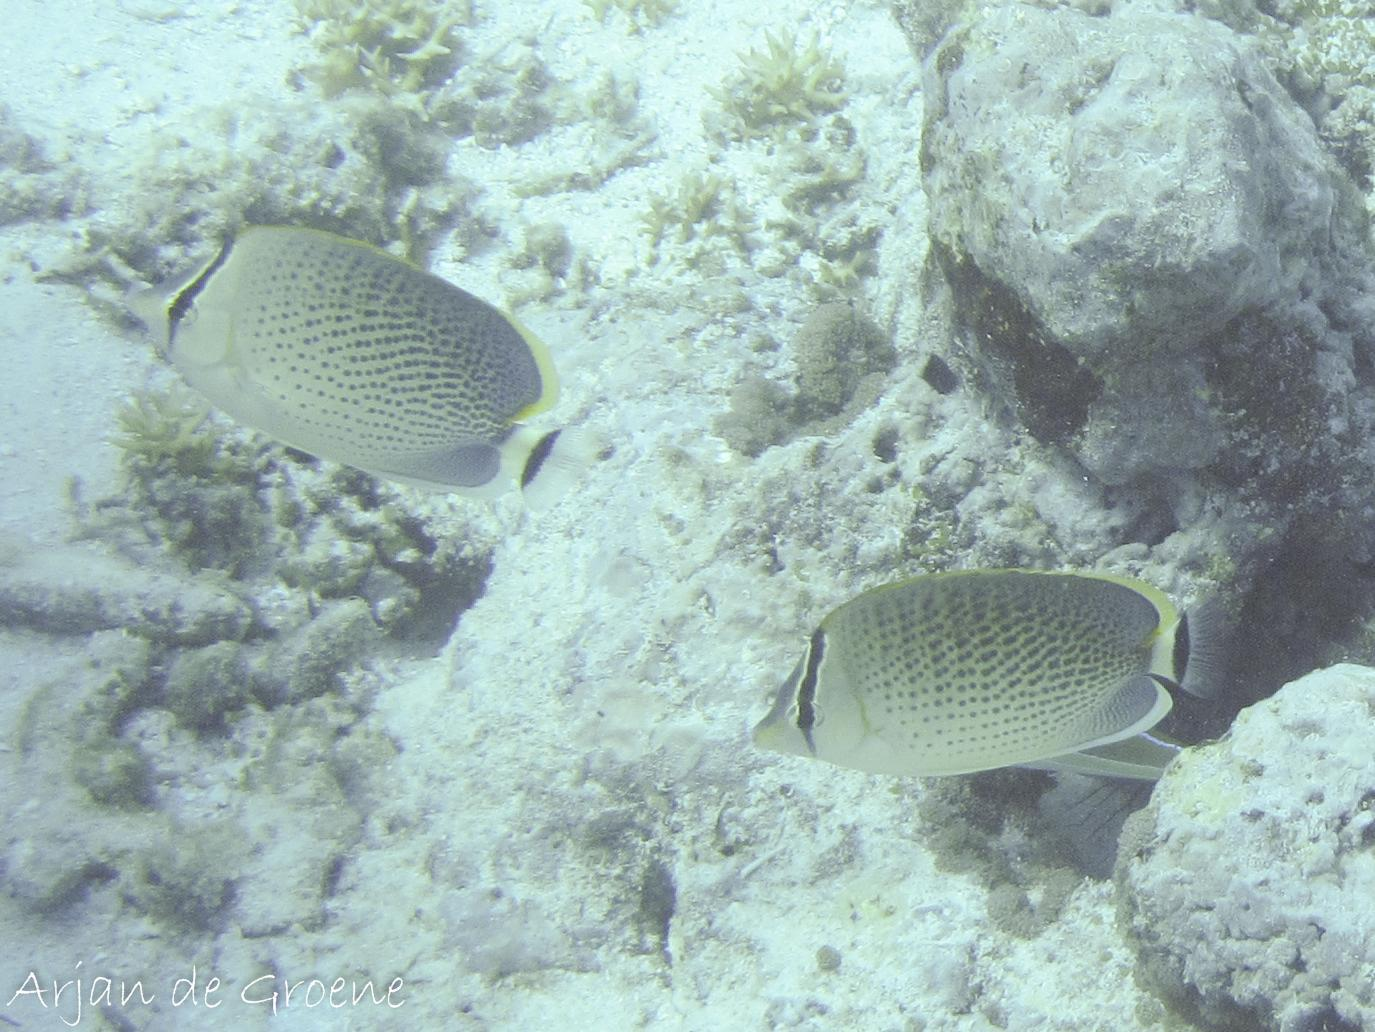Fish: (81, 162, 642, 561), (748, 558, 1274, 822)
